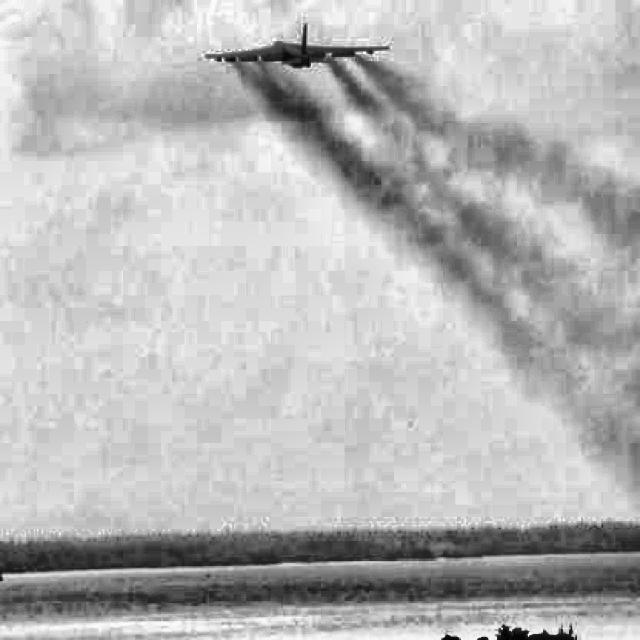B52: (204, 22, 390, 70)
